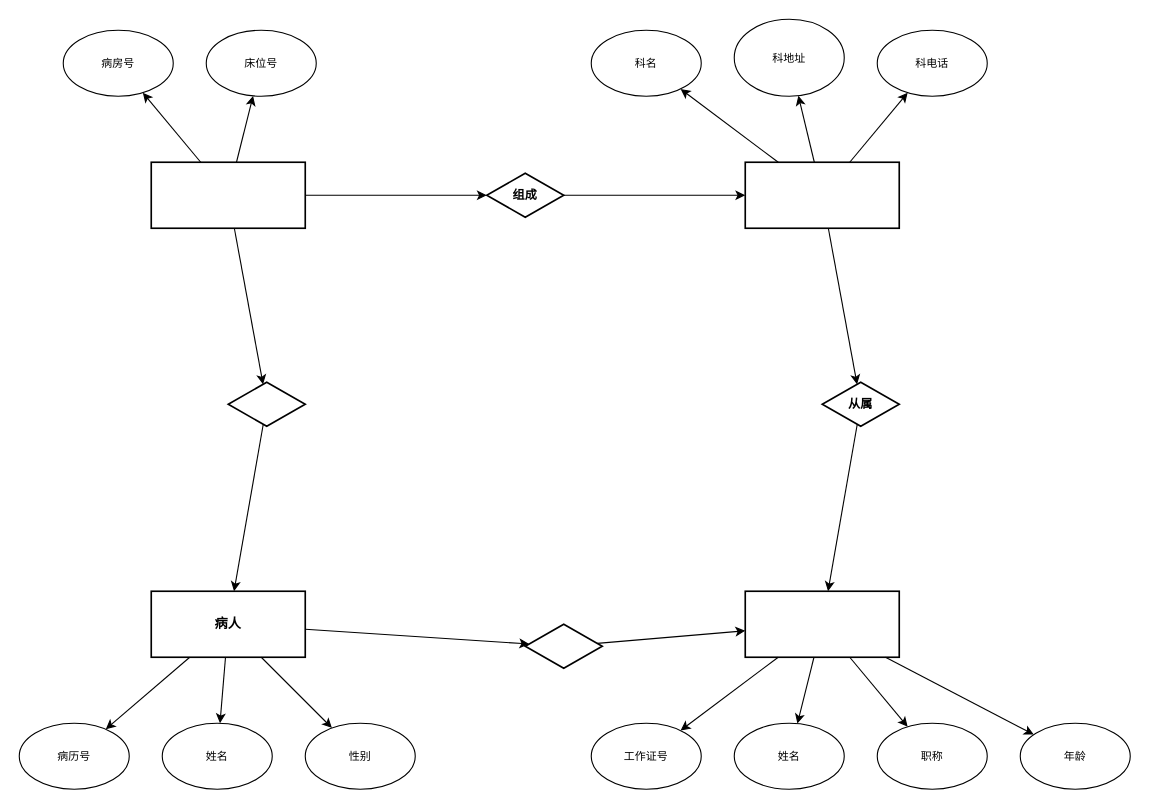
Image size: 1150x809. Some labels were removed from this diagram. Each missing label, with the box of its shape:
入住: (227, 381, 306, 427)
医生: (744, 590, 900, 658)
病房: (150, 161, 306, 229)
科室: (744, 161, 900, 229)
诊治: (524, 623, 603, 669)
